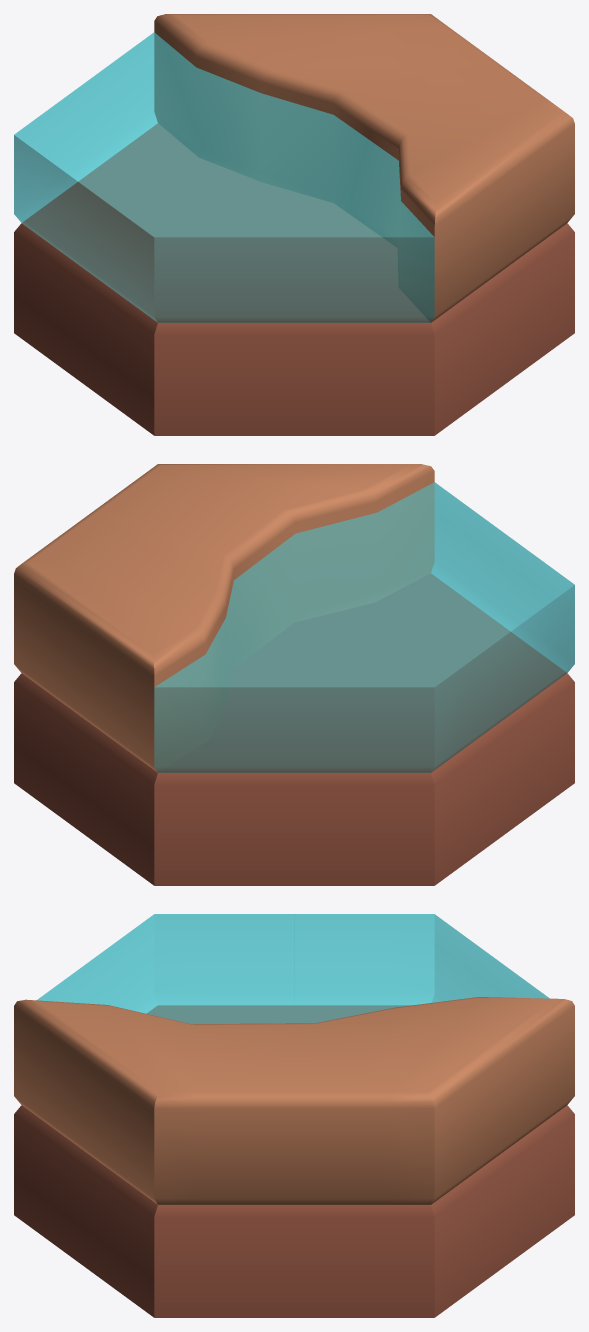
The model's file is hex_rock_waterC_detail.fbx.
3 renders of one model, top to bottom at view 1: azimuth 30°, elevation 25°; view 2: azimuth 150°, elevation 25°; view 3: azimuth 270°, elevation 25°, orthographic.
Parts seen in each view (by area): view 1: hex_rock_waterC_detail; view 2: hex_rock_waterC_detail; view 3: hex_rock_waterC_detail.
Boxes of the visible parts, x1,y1,x2,y2 form: hex_rock_waterC_detail: [14, 14, 574, 435]; hex_rock_waterC_detail: [14, 464, 574, 885]; hex_rock_waterC_detail: [14, 914, 574, 1317].
Size of the model in its own units: 2 by 1 by 2.31.
